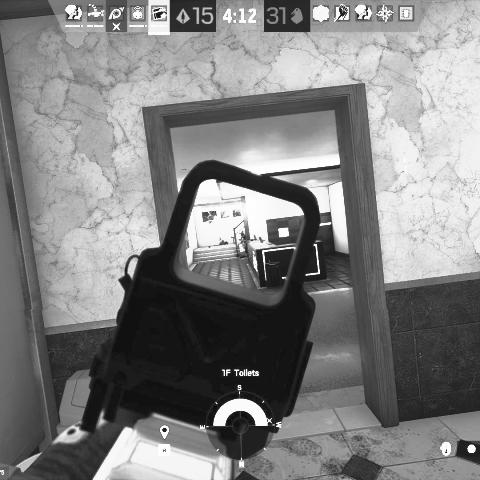Character: (240, 232, 249, 261)
Head: (240, 232, 246, 238)
